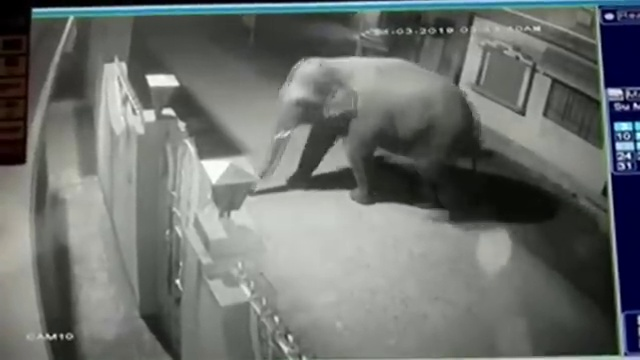Elephant: (260, 57, 479, 226)
